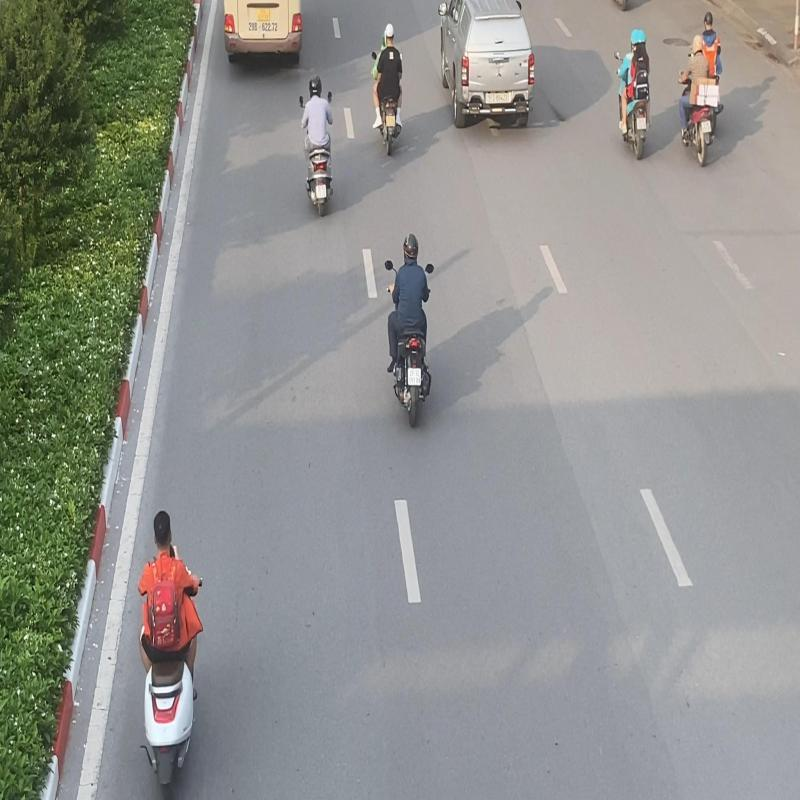helmet: (404, 233, 419, 264), (309, 76, 322, 98), (630, 29, 640, 48), (636, 29, 647, 46)
licenseplate: (407, 366, 422, 386), (316, 184, 326, 200), (636, 117, 646, 130)
motorcyclist: (384, 232, 435, 428), (298, 74, 334, 217), (614, 29, 652, 161)
nohelmet: (154, 510, 172, 555)
